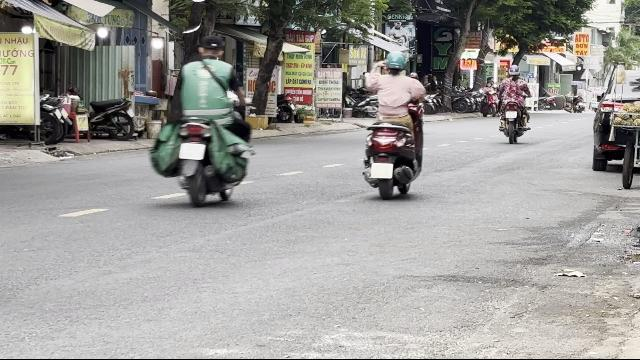helmet: (384, 50, 406, 74), (508, 64, 520, 78)
licenseplate: (178, 143, 206, 161), (371, 164, 393, 178)
motorcyclist: (148, 33, 255, 206), (359, 49, 428, 199)
nohelmet: (197, 34, 225, 60)
